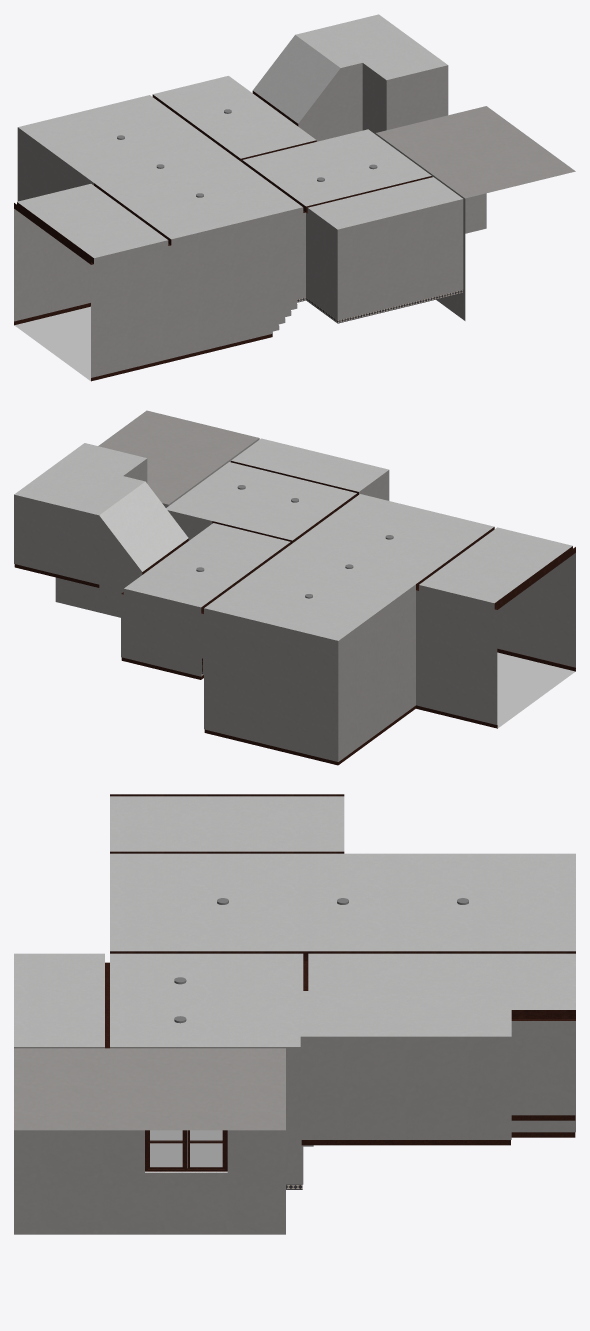
The model's file is reflection_room.fbx.
3 views of the same model, one above another, from view 1: azimuth 30°, elevation 25°; view 2: azimuth 150°, elevation 25°; view 3: azimuth 270°, elevation 25° (orthographic). The views are drawn at different scales.
Parts seen in each view (by area): view 1: Material2.004, Material2.001, Material2, Material2.007, Material2.006; view 2: Material2.004, Material2.001, Material2, Material2.007; view 3: Material2.001, Material2.004, Material2, Material2.003, Material2.007.
Boxes of the visible parts, bbox=[...] form: Material2.004: bbox=[14, 63, 575, 377]; Material2.001: bbox=[17, 14, 462, 257]; Material2: bbox=[14, 91, 431, 381]; Material2.007: bbox=[14, 306, 90, 380]; Material2.006: bbox=[297, 290, 462, 323]; Material2.004: bbox=[14, 410, 575, 761]; Material2.001: bbox=[14, 438, 572, 640]; Material2: bbox=[14, 461, 575, 765]; Material2.007: bbox=[497, 652, 575, 728]; Material2.001: bbox=[14, 796, 575, 1046]; Material2.004: bbox=[14, 1021, 575, 1234]; Material2: bbox=[105, 794, 575, 1171]; Material2.003: bbox=[150, 1130, 222, 1167]; Material2.007: bbox=[150, 1130, 222, 1167].
Bounding box in the file's own units: 79475 × 28150 × 56169.
